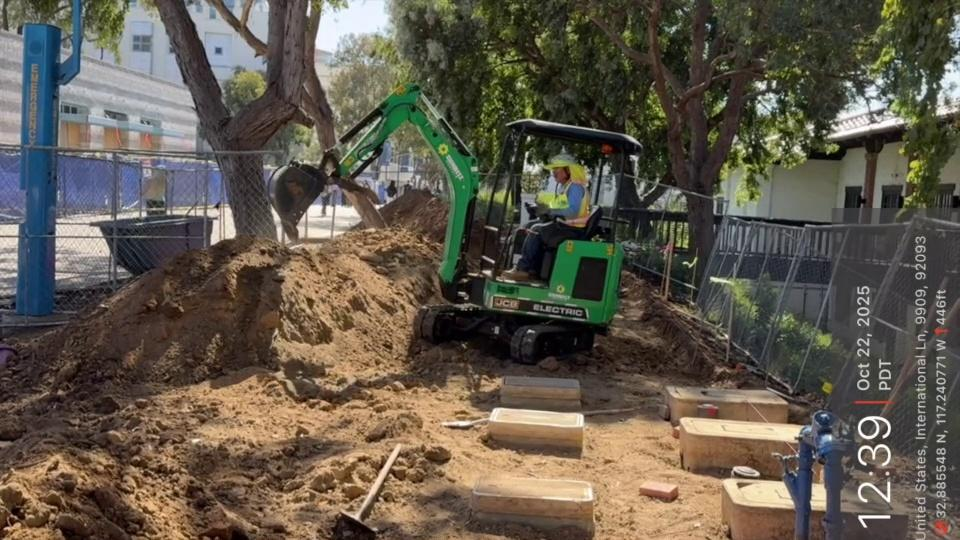Exacavator: (266, 80, 644, 365)
